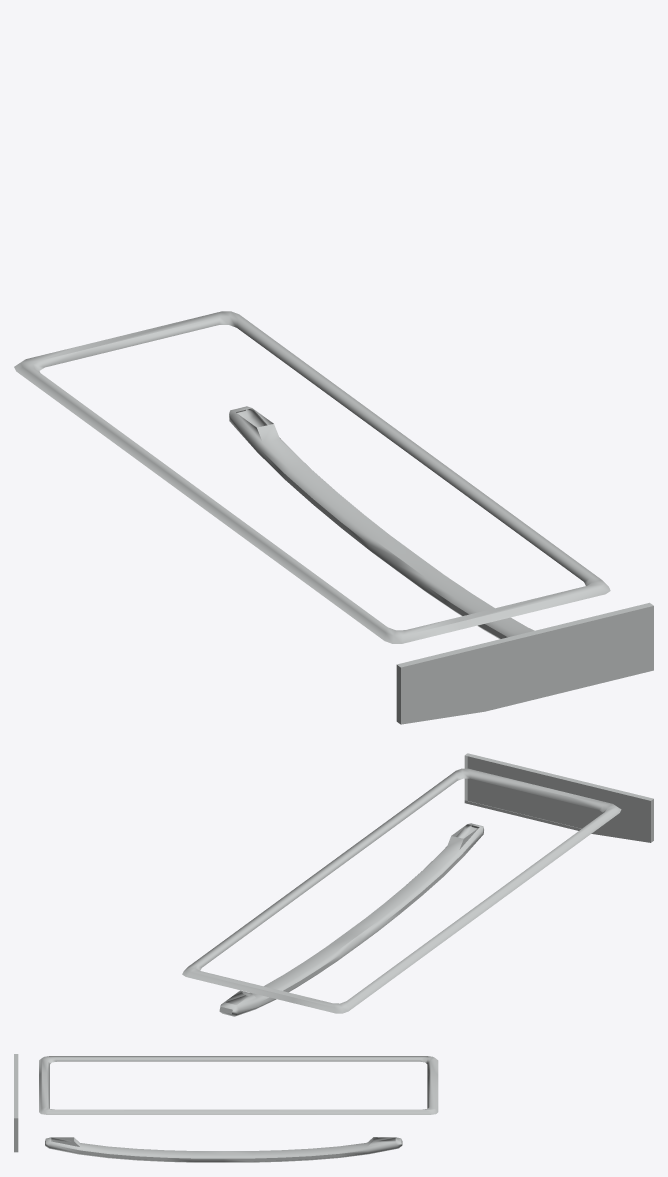
File: MeshFridgeMaindoor1C5_6_GeomSubset_1.obj
3 views of the same model, one above another, from view 1: azimuth 30°, elevation 25°; view 2: azimuth 150°, elevation 25°; view 3: azimuth 270°, elevation 25° (orthographic). The views are drawn at different scales.
Visible parts, largest first — view 1: MeshFridgeMaindoor1C5_6_GeomSubset_1; view 2: MeshFridgeMaindoor1C5_6_GeomSubset_1; view 3: MeshFridgeMaindoor1C5_6_GeomSubset_1.
Part boxes in pixels (left/top/right/bottom): MeshFridgeMaindoor1C5_6_GeomSubset_1: left=14, top=311, right=653, bottom=724; MeshFridgeMaindoor1C5_6_GeomSubset_1: left=182, top=753, right=653, bottom=1016; MeshFridgeMaindoor1C5_6_GeomSubset_1: left=14, top=1054, right=438, bottom=1162.
Bounding box in the file's own units: 0.4835 × 0.4412 × 2.01.
